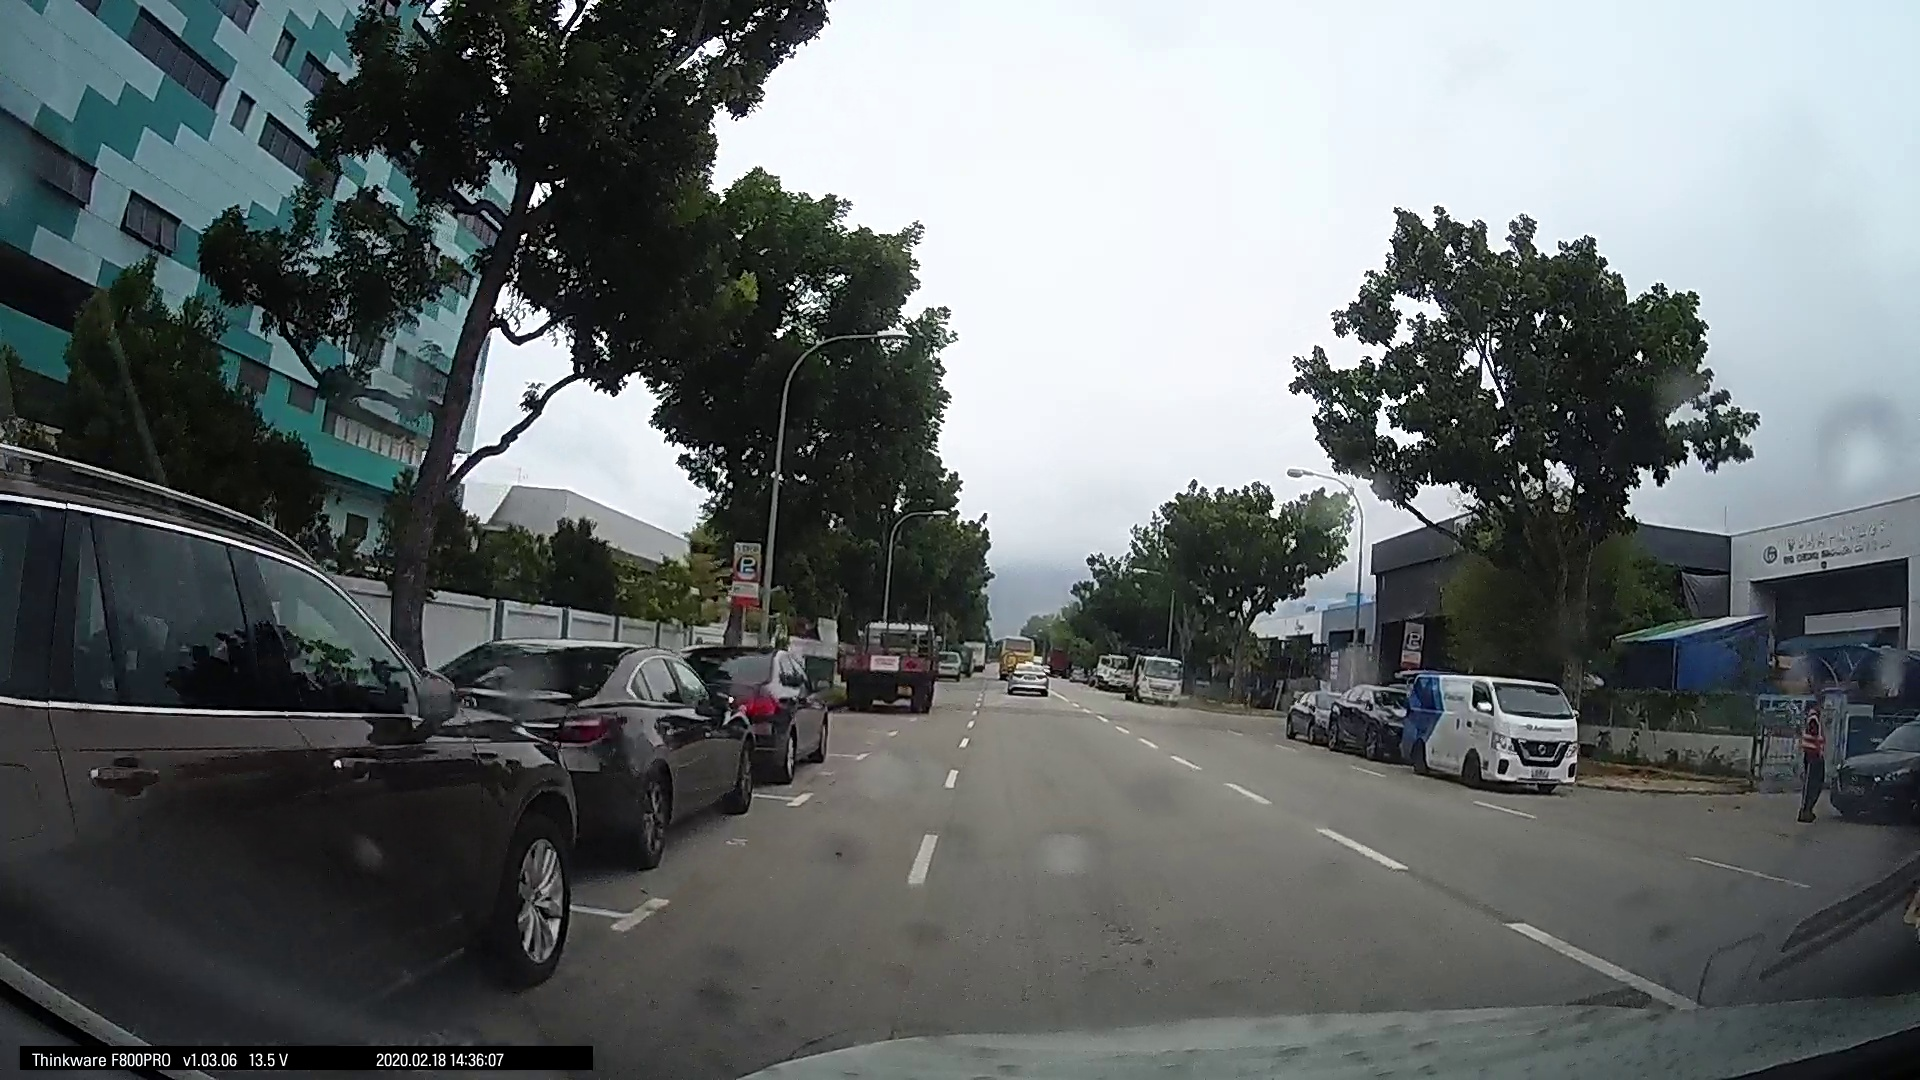Heavy Vehicle: (843, 617, 934, 709)
Light Vehicle: (7, 495, 587, 1005), (446, 638, 756, 858), (1400, 665, 1581, 795), (703, 640, 829, 785), (1828, 709, 1917, 820), (1125, 650, 1183, 704), (998, 651, 1048, 694), (932, 644, 967, 679)
